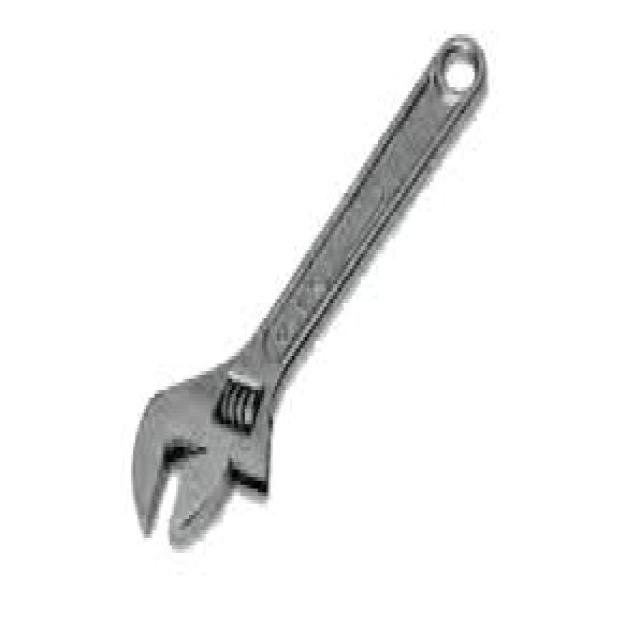wrench: (81, 29, 585, 564)
